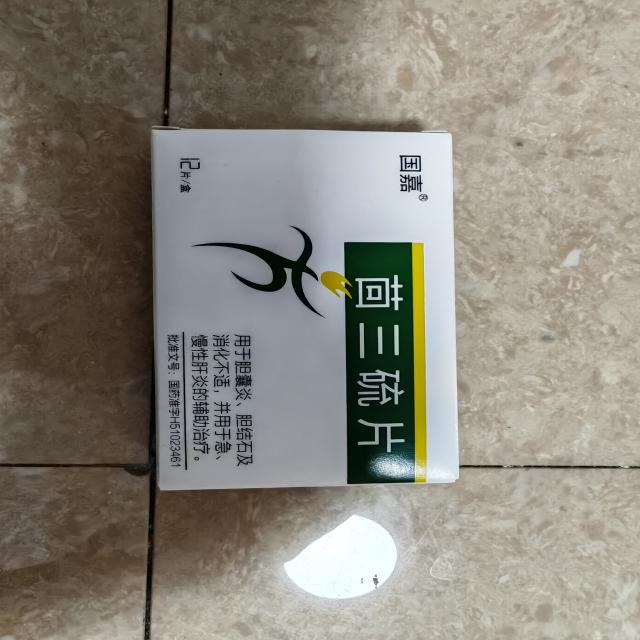box: (138, 117, 468, 495)
